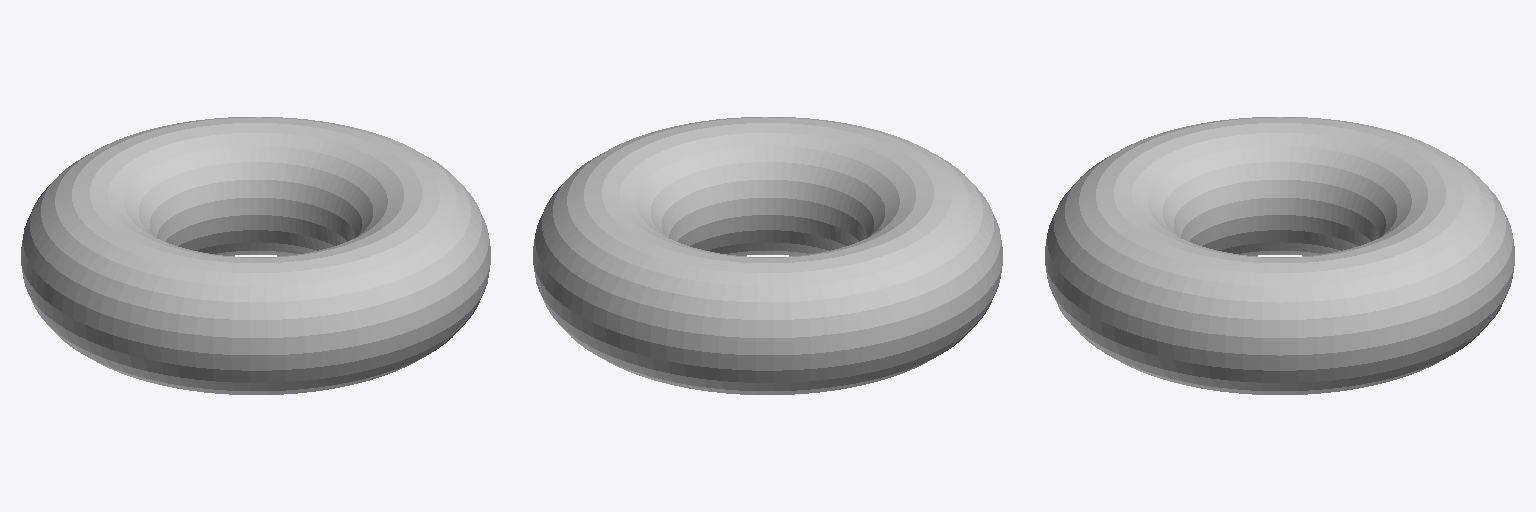
File: diamond.obj
3 views of the same model, side by side, from view 1: azimuth 30°, elevation 25°; view 2: azimuth 150°, elevation 25°; view 3: azimuth 270°, elevation 25° (orthographic).
Bounding box in the file's own units: 2.82 × 0.8312 × 2.82.